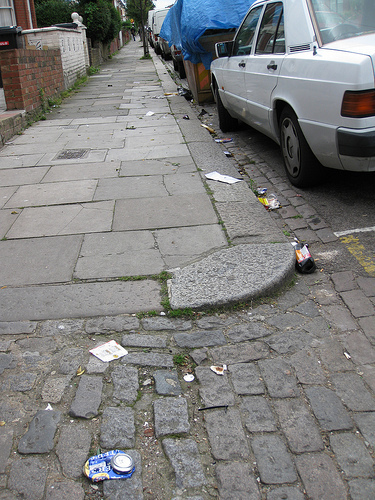litter: (83, 450, 135, 483), (89, 338, 127, 362), (293, 243, 317, 275), (253, 184, 280, 211), (201, 121, 231, 144), (206, 171, 242, 185), (176, 84, 191, 103), (200, 104, 208, 116), (180, 112, 191, 120), (148, 107, 155, 116)
